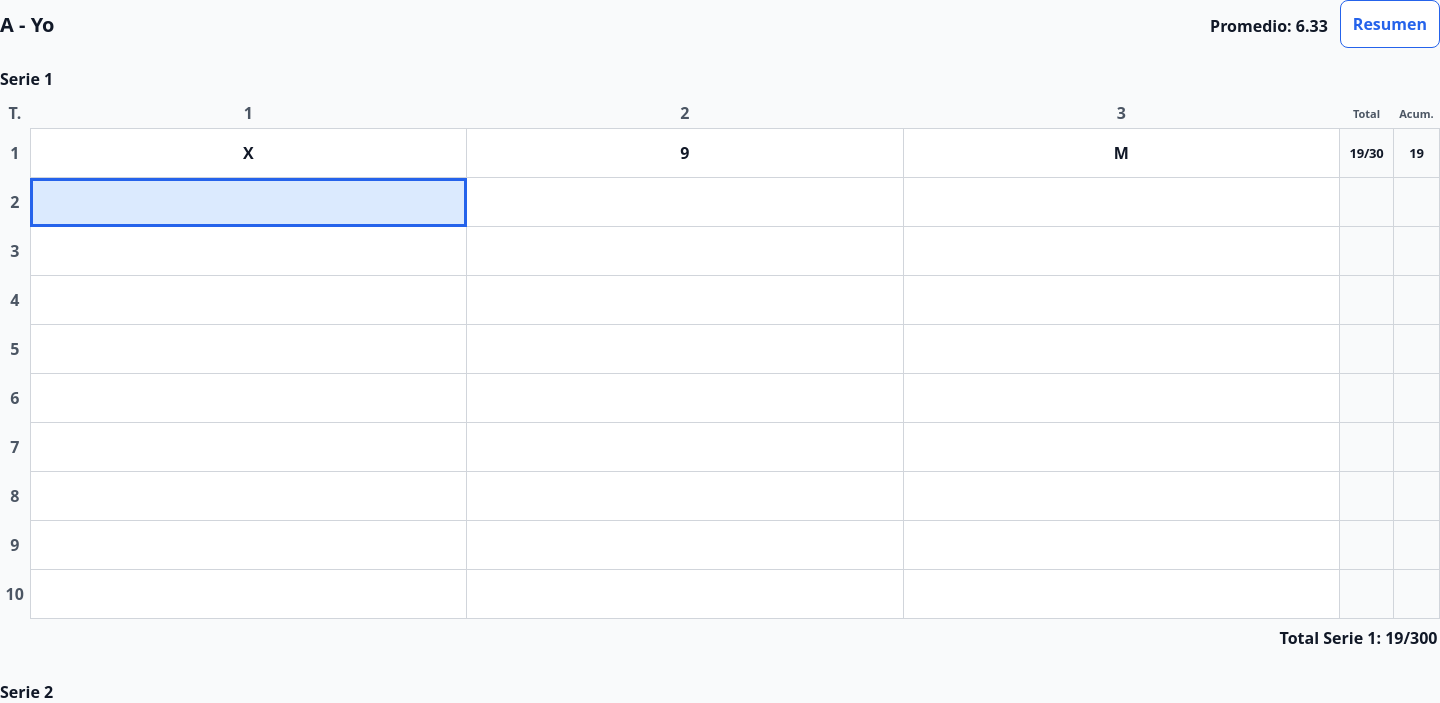
Test case: ScoringView › tapping a filled cell selects it; the next key overwrites it and advances
This screenshot has width=1440, height=703.
Click the button "9".
click(685, 153)  # box x1=467 y1=129 x2=902 y2=177
(page scrolled)
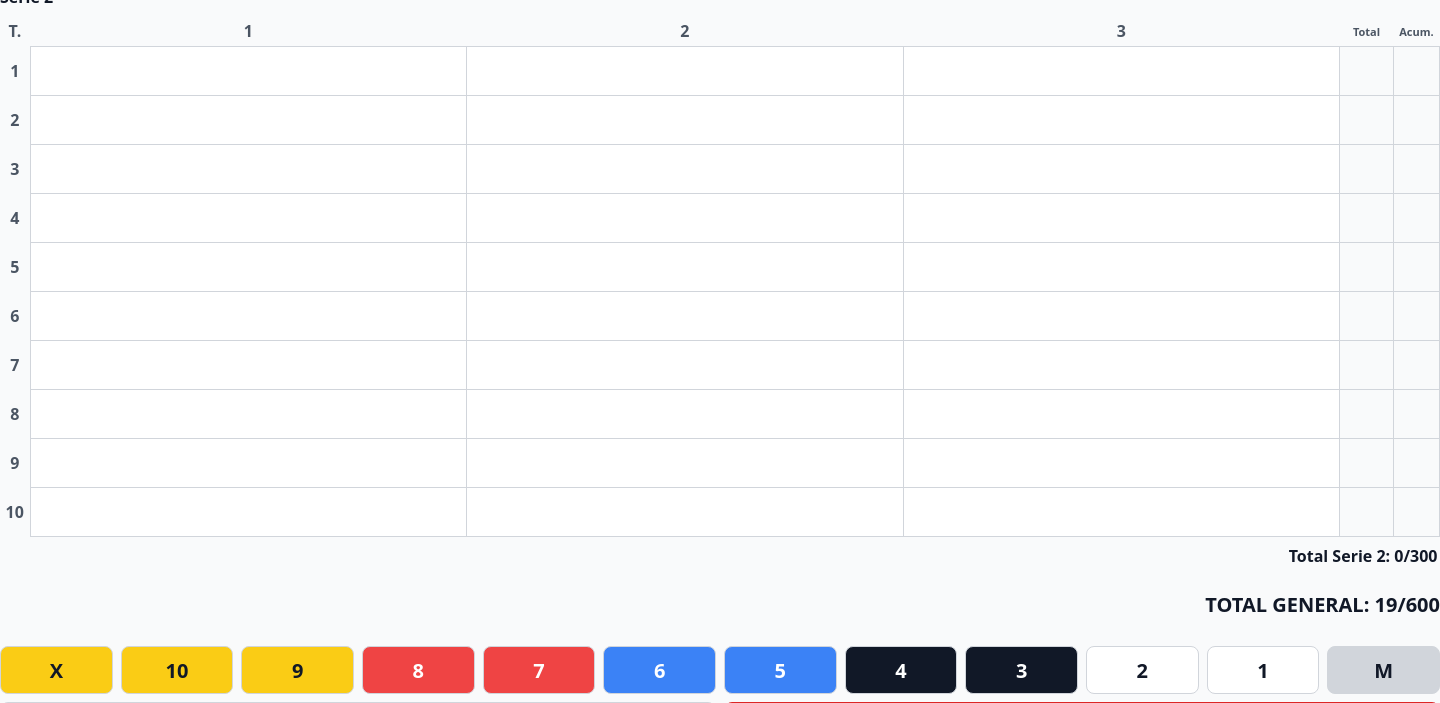
Click the button with test id "key-7".
click(539, 670)  # box x1=483 y1=646 x2=595 y2=694
(page scrolled)
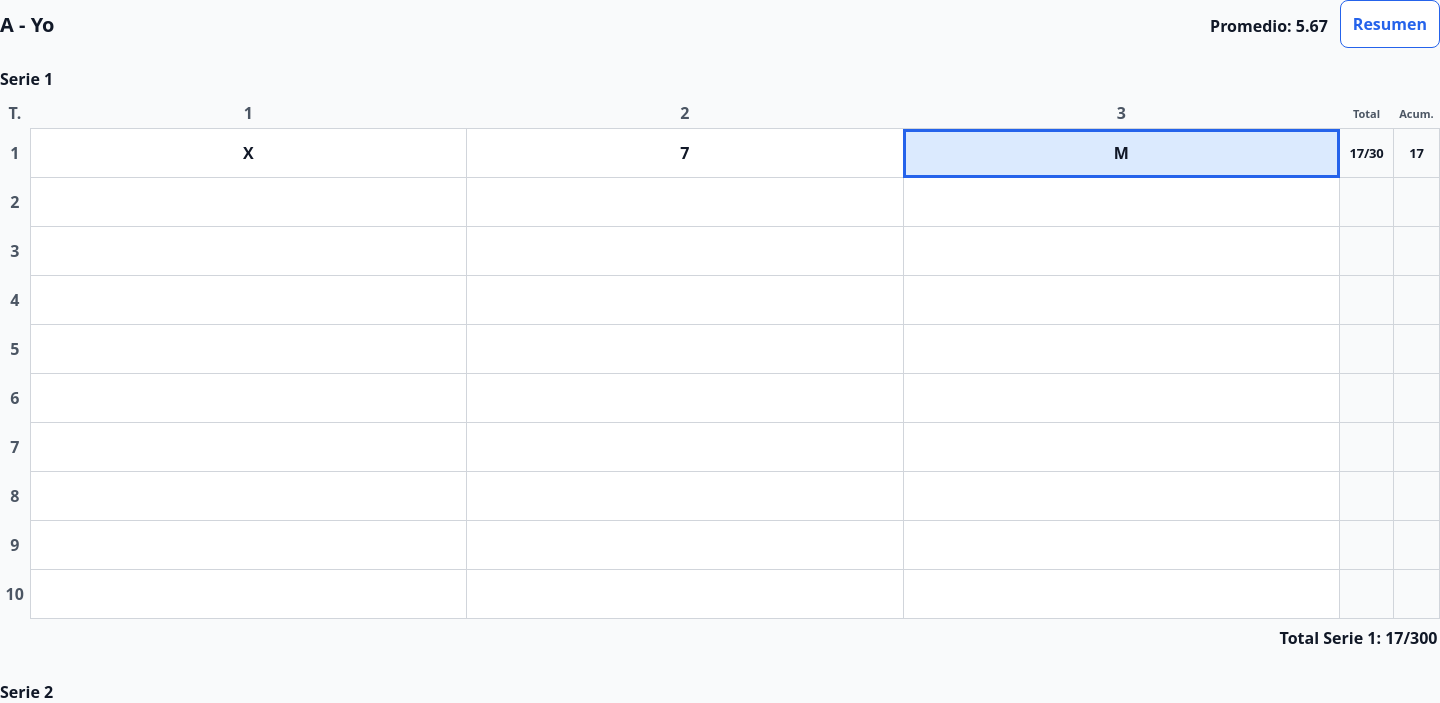
Now the cell with test id "score-cell-0-1" reads "7", box x1=467 y1=129 x2=902 y2=177
